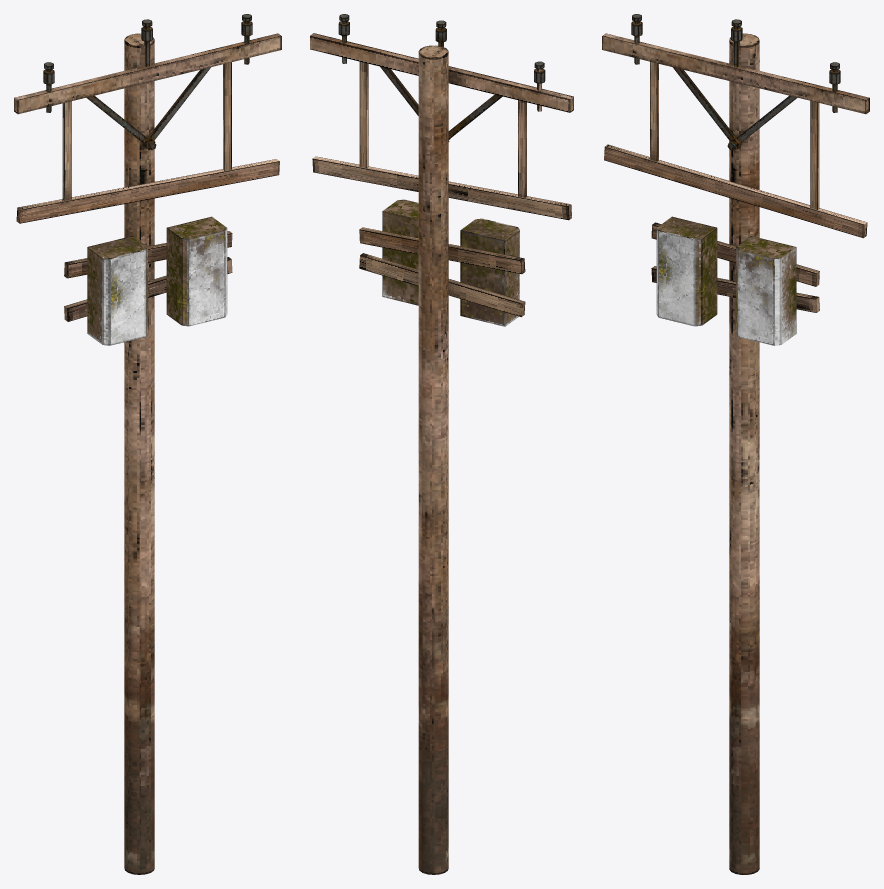
The model's file is E_Pole_6.glb.
3 views of the same model, side by side, from view 1: azimuth 30°, elevation 25°; view 2: azimuth 150°, elevation 25°; view 3: azimuth 330°, elevation 25° (orthographic).
Parts seen in each view (by area): view 1: E_Pole_6; view 2: E_Pole_6; view 3: E_Pole_6.
Boxes of the visible parts, x1=… form: E_Pole_6: x1=14, y1=14, x2=281, y2=874; E_Pole_6: x1=310, y1=14, x2=573, y2=874; E_Pole_6: x1=602, y1=14, x2=869, y2=874.
Bounding box in the file's own units: 2 × 6.17 × 0.4671.
Materials: 1 (1 with a texture image).
